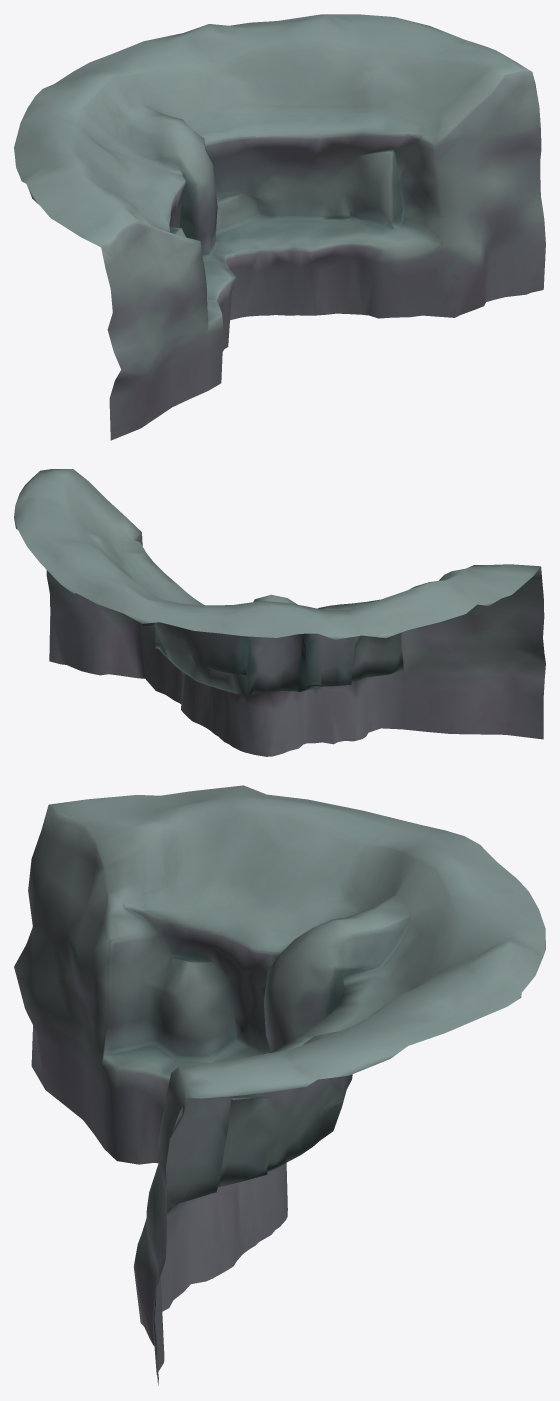
File: SM_Rock_Wall_04.fbx
3 renders of one model, top to bottom at view 1: azimuth 30°, elevation 25°; view 2: azimuth 150°, elevation 25°; view 3: azimuth 270°, elevation 25°, orthographic. The views are drawn at different scales.
Parts seen in each view (by area): view 1: pCube107; view 2: pCube107; view 3: pCube107.
Part boxes in pixels (x1,y1,x2,y2): pCube107: [14, 14, 545, 440]; pCube107: [14, 469, 545, 756]; pCube107: [14, 785, 545, 1385].
Bounding box in the file's own units: 1966 × 860 × 1341.
